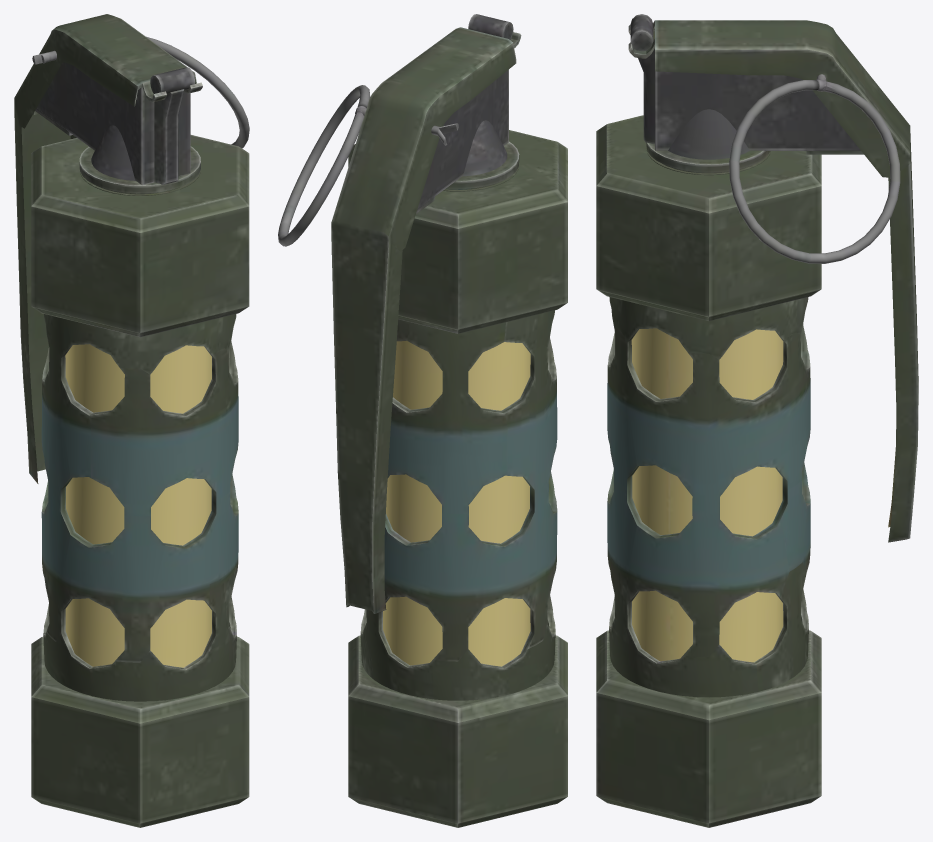
The model's file is flashb_hi.glb.
3 views of the same model, side by side, from view 1: azimuth 30°, elevation 25°; view 2: azimuth 150°, elevation 25°; view 3: azimuth 270°, elevation 25° (orthographic). The views are drawn at different scales.
Parts seen in each view (by area): view 1: Flashbang, Pin; view 2: Flashbang, Pin; view 3: Flashbang, Pin.
Part boxes in pixels (bbox=[...]): Flashbang: bbox=[14, 14, 249, 827]; Pin: bbox=[32, 36, 249, 148]; Flashbang: bbox=[331, 14, 567, 827]; Pin: bbox=[278, 85, 458, 246]; Flashbang: bbox=[596, 14, 918, 827]; Pin: bbox=[729, 74, 900, 263].
Size of the model in its own units: 0.0418 by 0.1216 by 0.047.
Materials: 1 (1 with a texture image).
